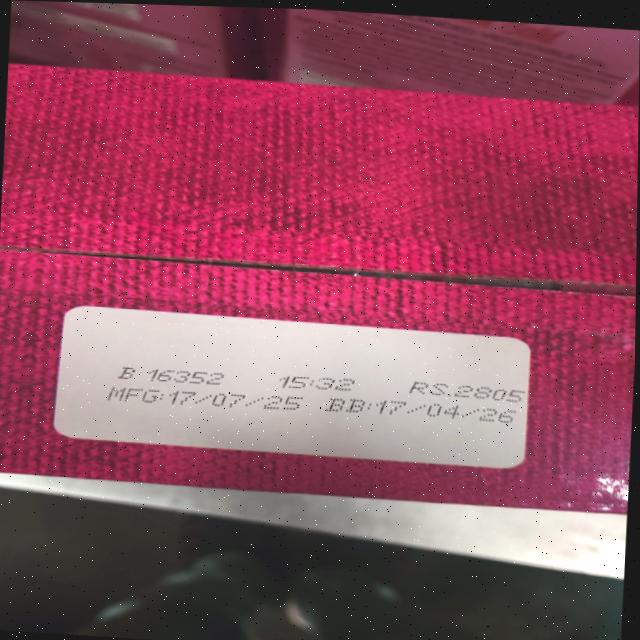BB: (327, 394, 533, 427)
Batch: (117, 363, 231, 390)
MFG: (105, 383, 314, 416)
RS: (408, 376, 529, 406)
TimeStamp: (274, 373, 360, 395)
